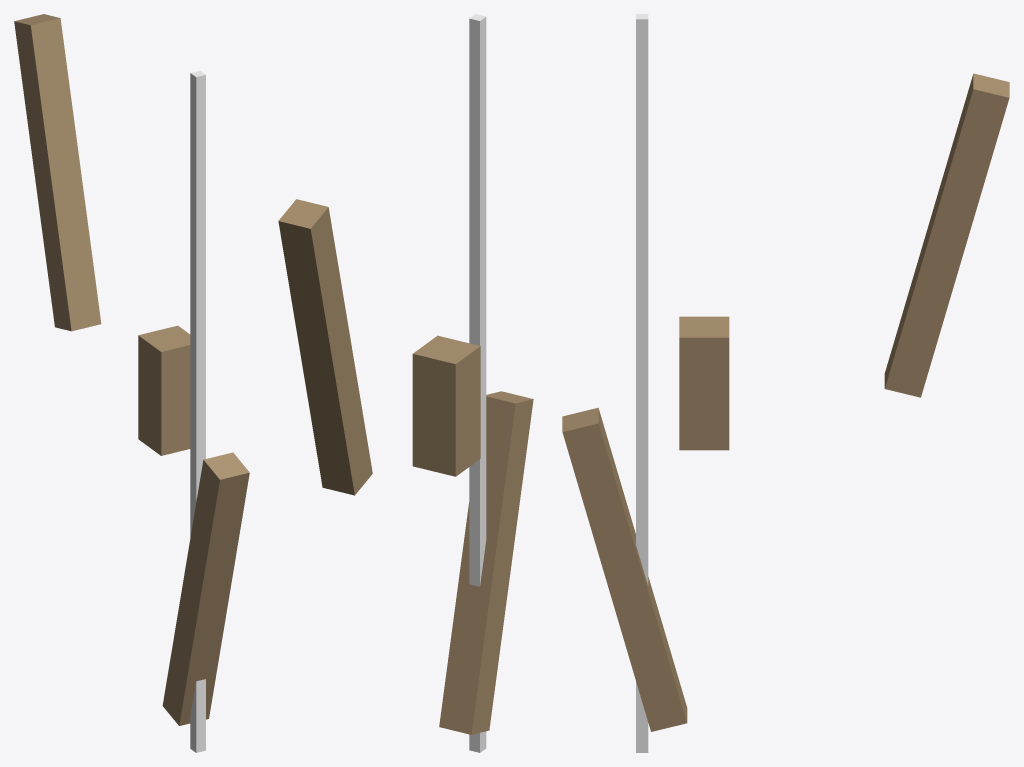
Rendered from bow.glb.
3 renders of one model, left to right at view 1: azimuth 30°, elevation 25°; view 2: azimuth 150°, elevation 25°; view 3: azimuth 270°, elevation 25°, orthographic. The views are drawn at different scales.
Parts seen in each view (by area): view 1: Weapon_Bow; view 2: Weapon_Bow; view 3: Weapon_Bow.
Part boxes in pixels (<box>): Weapon_Bow: <box>14,14,249,752</box>; Weapon_Bow: <box>278,14,533,752</box>; Weapon_Bow: <box>562,14,1009,752</box>.
Bounding box in the file's own units: 0.08 × 1.3 × 0.7179.
